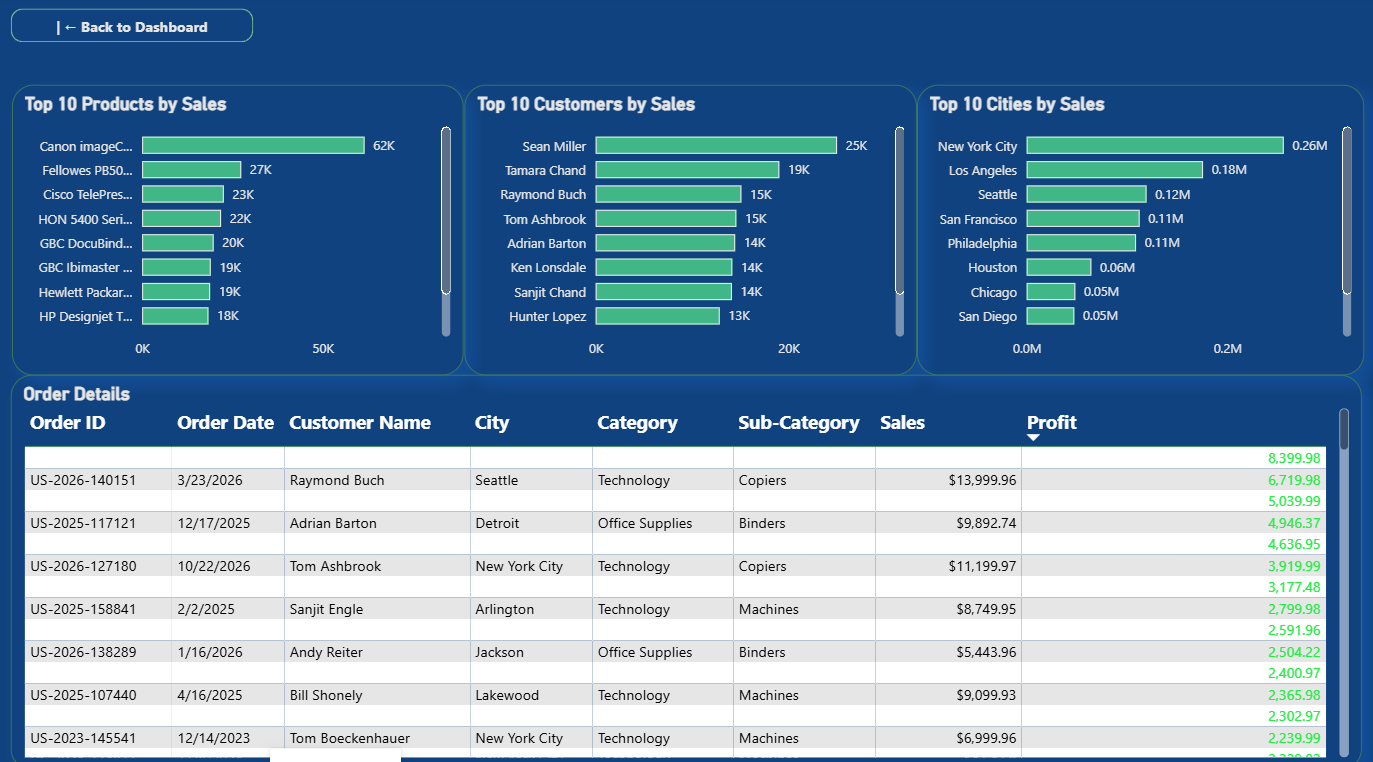

What the dashboard file says about the page in this screenshot:
{"tool":"powerbi","page":{"name":"Detailed Analysis","canvas":[1280,720],"ordinal":1},"visuals":[{"type":"clusteredBarChart","title":"Top 10 Products by Sales","fields":{"Category":["public orders.Product Name"],"Y":["public orders.Total Sales"]},"box":[14.5,82,419.8,270.2],"z":0},{"type":"clusteredBarChart","title":"Top 10 Customers by Sales","fields":{"Category":["public orders.Customer Name"],"Y":["public orders.Total Sales"]},"box":[434.3,82,421,270.2],"z":1000},{"type":"clusteredBarChart","title":"Top 10 Cities by Sales","fields":{"Category":["public orders.City"],"Y":["public orders.Total Sales"]},"box":[855.4,82,416.2,270.2],"z":2000},{"type":"tableEx","title":"Order Details","fields":{"Values":["public orders.Order ID","public orders.Order Date","public orders.Customer Name","public orders.City","public orders.Category","public orders.Sub-Category","Sum(public orders.Sales)","Sum(public orders.Profit)"]},"box":[13.3,352.3,1257.1,368],"z":3000},{"type":"actionButton","box":[13.3,12.1,225.6,31.4],"z":4000}]}

Visuals, with their boxes in screenshot pixels (x1, y1, x2, y2), scaled from the page's 1280x720 canvas onto the 1373x762 screenshot:
"Top 10 Products by Sales" clusteredBarChart: region(16, 87, 466, 373)
"Top 10 Customers by Sales" clusteredBarChart: region(466, 87, 917, 373)
"Top 10 Cities by Sales" clusteredBarChart: region(918, 87, 1364, 373)
"Order Details" tableEx: region(14, 373, 1363, 761)
actionButton: region(14, 13, 256, 46)
